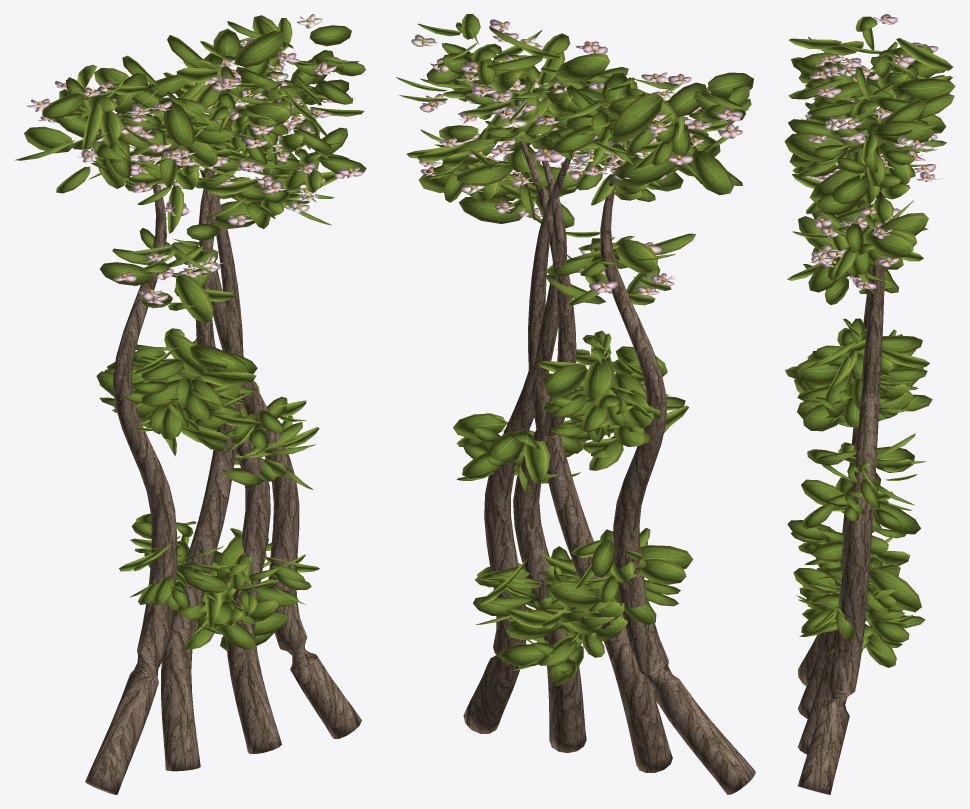
Rendered from Spring_LivingWallRoots.fbx.
3 views of the same model, side by side, from view 1: azimuth 30°, elevation 25°; view 2: azimuth 150°, elevation 25°; view 3: azimuth 270°, elevation 25° (orthographic). The views are drawn at different scales.
Visible parts, largest first — view 1: Spring_LivingWallRoots; view 2: Spring_LivingWallRoots; view 3: Spring_LivingWallRoots.
Part boxes in pixels (x1,y1,x2,y2): Spring_LivingWallRoots: (14,14,366,794); Spring_LivingWallRoots: (396,14,755,794); Spring_LivingWallRoots: (784,14,955,794).
Size of the model in its own units: 6.38 by 13.05 by 3.01.
7 materials, 4 textured.
